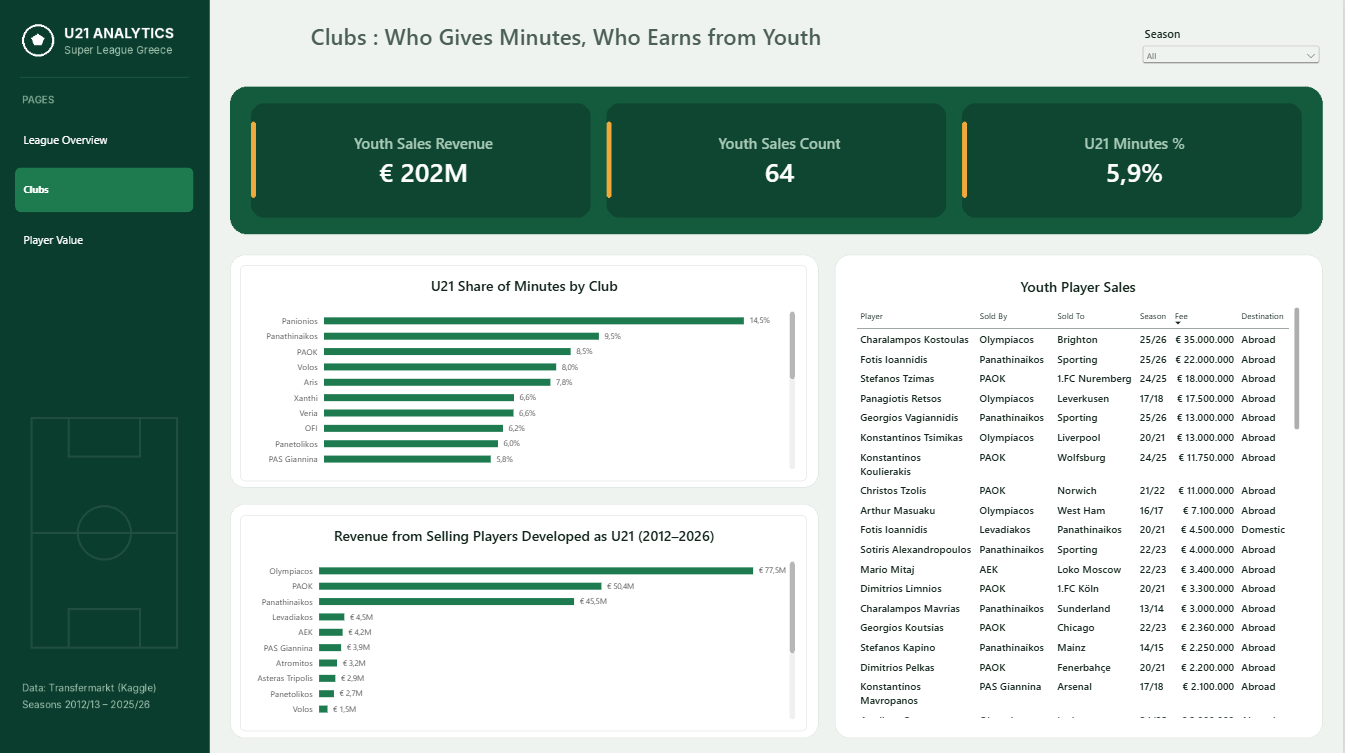

This screenshot's page, from the dashboard's own definition file:
{"tool":"powerbi","page":{"name":"Clubs","canvas":[1920,1080],"ordinal":1},"visuals":[{"type":"textbox","box":[330,30,960,75],"z":0},{"type":"slicer","fields":{"Values":["Season.season_label"]},"box":[1628,38,263,75],"z":1000},{"type":"clusteredBarChart","title":"U21 Share of Minutes by Club","fields":{"Category":["gr_clubs.club_short_name"],"Y":["Measure.U21 Minutes %"]},"box":[345,380,810,309],"z":2000},{"type":"clusteredBarChart","title":"Revenue from Selling Players Developed as U21 (2012–2026)","fields":{"Category":["gr_clubs.club_short_name"],"Y":["Measure.Youth Sales Revenue"]},"box":[345,737,810,309],"z":3000},{"type":"tableEx","title":"Youth Player Sales","fields":{"Values":["gr_youth_sales.player_name","gr_clubs.club_short_name","gr_youth_sales.to_club_name","gr_youth_sales.transfer_season","Sum(gr_youth_sales.transfer_fee)","gr_youth_sales.destination"]},"box":[1209,383,666,660],"z":4000},{"type":"cardVisual","fields":{"Data":["Measure.Youth Sales Revenue"]},"box":[381,159,450,147],"z":5000},{"type":"cardVisual","fields":{"Data":["Measure.Youth Sales Count"]},"box":[890,159,450,147],"z":6000},{"type":"cardVisual","fields":{"Data":["Measure.U21 Minutes %"]},"box":[1397,159,450,147],"z":7000},{"type":"pageNavigator","box":[23,168,255,210],"z":7001}]}

Visuals, with their boxes on the page's 1920x1080 design canvas (x1, y1, x2, y2). These are canvas units, not pixel positions in the 1345x753 screenshot, which may show the page scaled, cropped or inside an application window:
textbox: <region>330, 30, 1290, 105</region>
slicer - Season.season_label: <region>1628, 38, 1891, 113</region>
"U21 Share of Minutes by Club" clusteredBarChart: <region>345, 380, 1155, 689</region>
"Revenue from Selling Players Developed as U21 (2012–2026)" clusteredBarChart: <region>345, 737, 1155, 1046</region>
"Youth Player Sales" tableEx: <region>1209, 383, 1875, 1043</region>
cardVisual - Measure.Youth Sales Revenue: <region>381, 159, 831, 306</region>
cardVisual - Measure.Youth Sales Count: <region>890, 159, 1340, 306</region>
cardVisual - Measure.U21 Minutes %: <region>1397, 159, 1847, 306</region>
pageNavigator: <region>23, 168, 278, 378</region>
